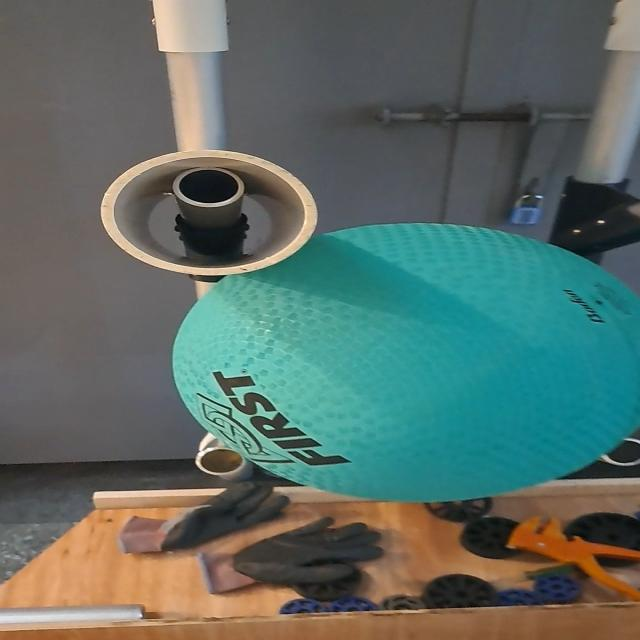ALGAE: (165, 217, 640, 509)
CORAL: (90, 146, 329, 278)
